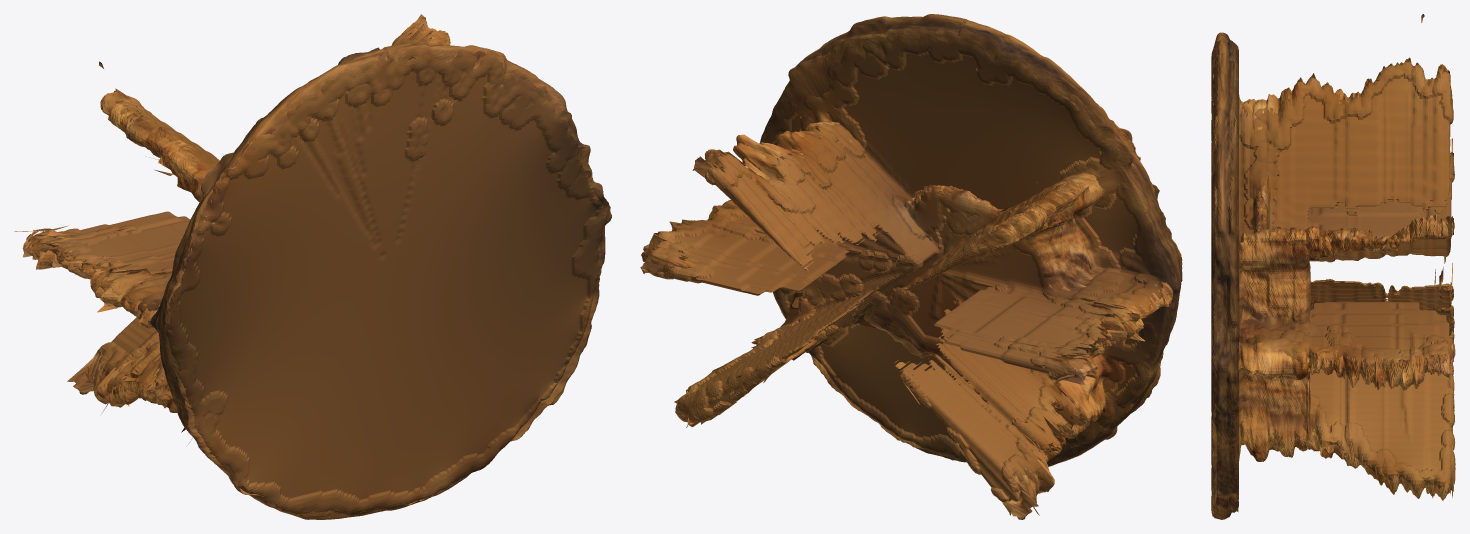
File: volume2_mesh.glb
3 renders of one model, left to right at view 1: azimuth 30°, elevation 25°; view 2: azimuth 150°, elevation 25°; view 3: azimuth 270°, elevation 25°, orthographic. The views are drawn at different scales.
Visible parts, largest first — view 1: fill, ipn; view 2: fill, ipn; view 3: fill, ipn.
Part boxes in pixels (box(x1,y1,x2,y2)): fill: box(28, 29, 606, 515); ipn: box(14, 14, 611, 519); fill: box(645, 31, 1181, 502); ipn: box(640, 14, 1182, 519); fill: box(1211, 40, 1455, 519); ipn: box(1212, 14, 1453, 519).
Bounding box in the file's own units: 1.96 × 1.76 × 0.8803.
Materials: 2 (1 with a texture image).
